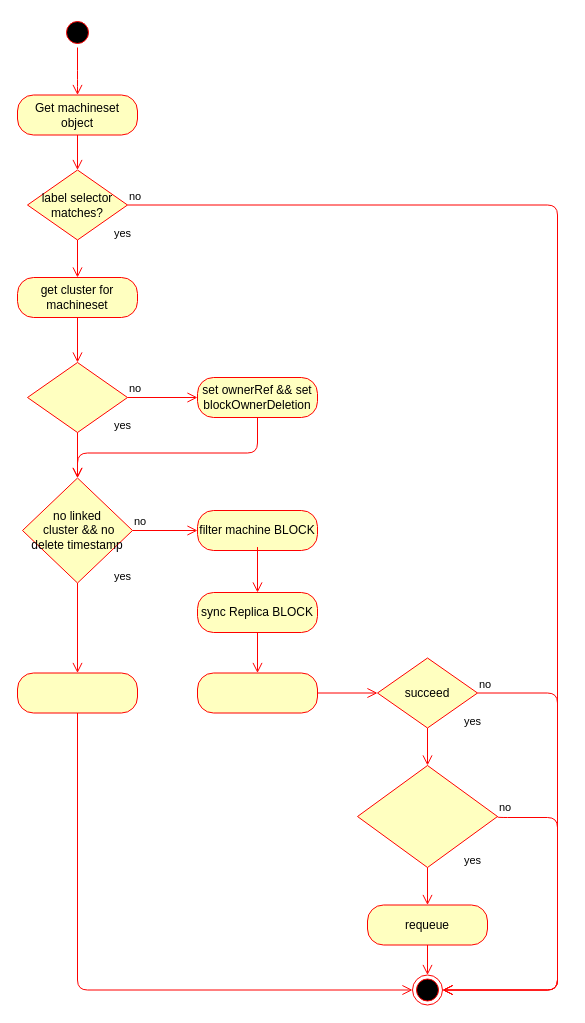
The diagram is 585 pixels wide and 1023 high, and some of its shapes have lost their labels. Each missing label, with the centre of its shape:
"add delete dependent finalizer if needed" goes at (77,692).
"cluster exist && ownerRef > 0" goes at (77,397).
"force resync after MinReadySeconds?" goes at (427,816).
"update machineset status" goes at (257,692).
